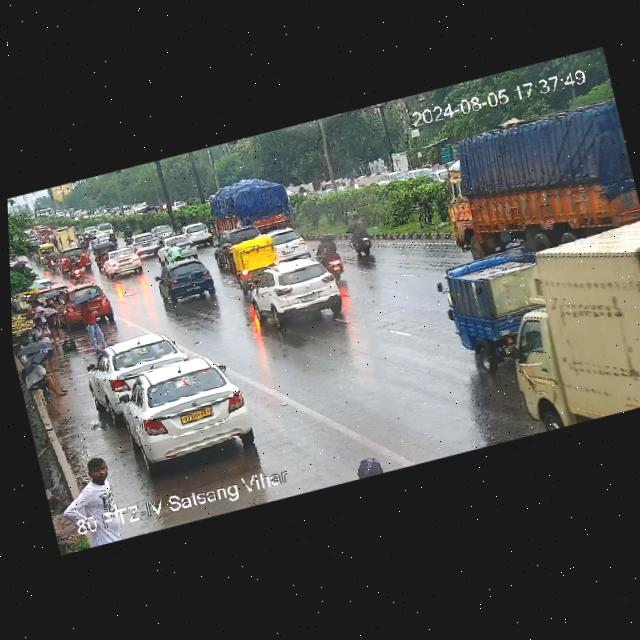car: (426, 242, 561, 382), (113, 347, 256, 472), (84, 324, 193, 409), (245, 251, 351, 335), (221, 230, 284, 297), (153, 251, 224, 308), (271, 223, 312, 264), (100, 249, 145, 282), (155, 232, 197, 264), (179, 219, 219, 250), (57, 244, 93, 277), (222, 224, 261, 247), (85, 220, 119, 245), (132, 237, 166, 260), (152, 221, 180, 242), (88, 230, 117, 249), (90, 239, 117, 258), (129, 231, 160, 247)
motorcycle: (313, 226, 349, 281), (342, 214, 382, 259), (64, 253, 88, 280), (166, 239, 184, 262), (45, 248, 59, 273), (122, 224, 132, 242)
person: (57, 447, 128, 552), (51, 505, 89, 554), (28, 358, 67, 404), (32, 314, 61, 372), (77, 297, 105, 348), (42, 296, 67, 343), (28, 297, 41, 314)
truck: (433, 94, 640, 273), (494, 223, 640, 436), (205, 167, 289, 241)
